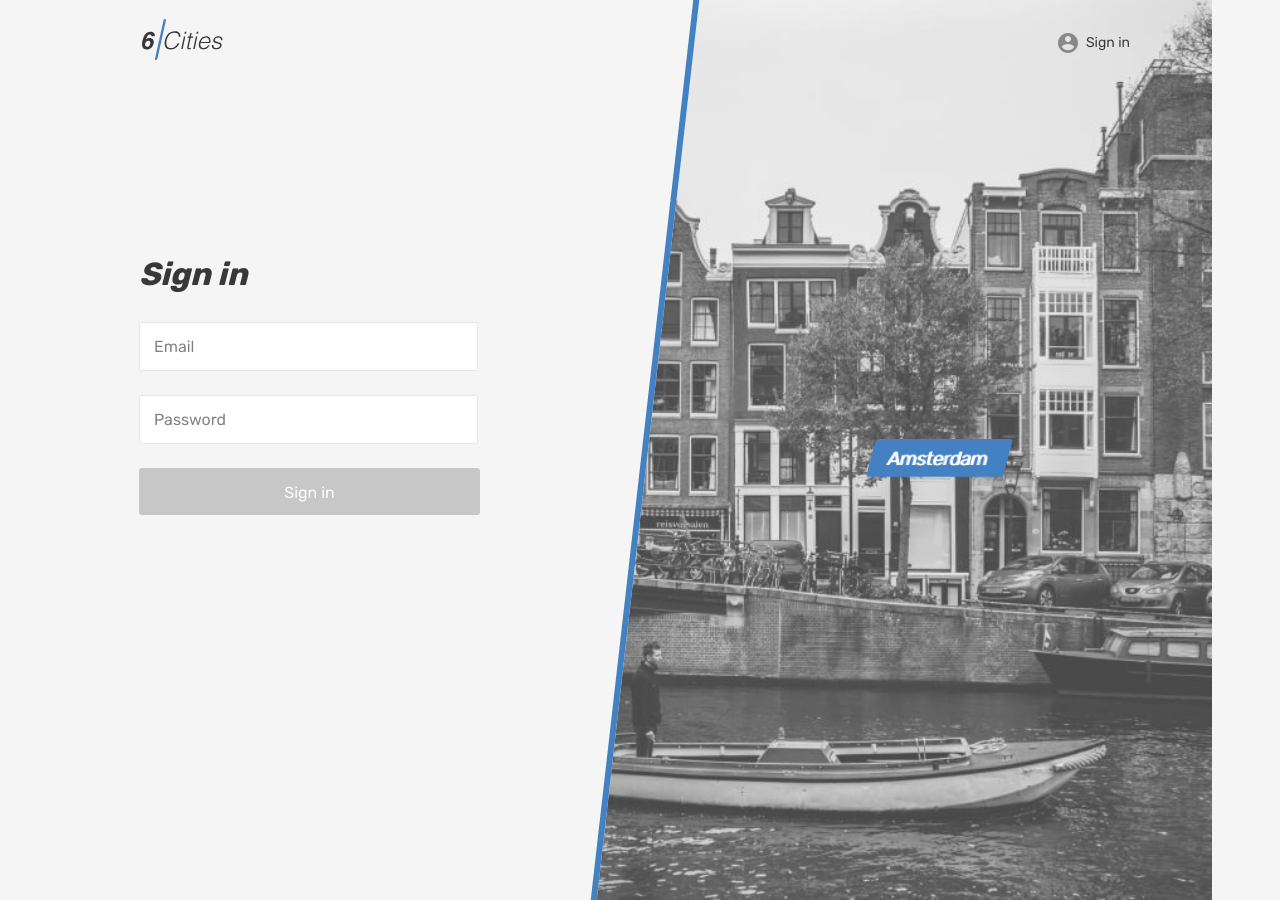
Test: LoginPage › should have submit button enabled when password has letters and digits
Type "password123" into the password field with placeholder "Password" at (308, 419), box [139,395,478,444]
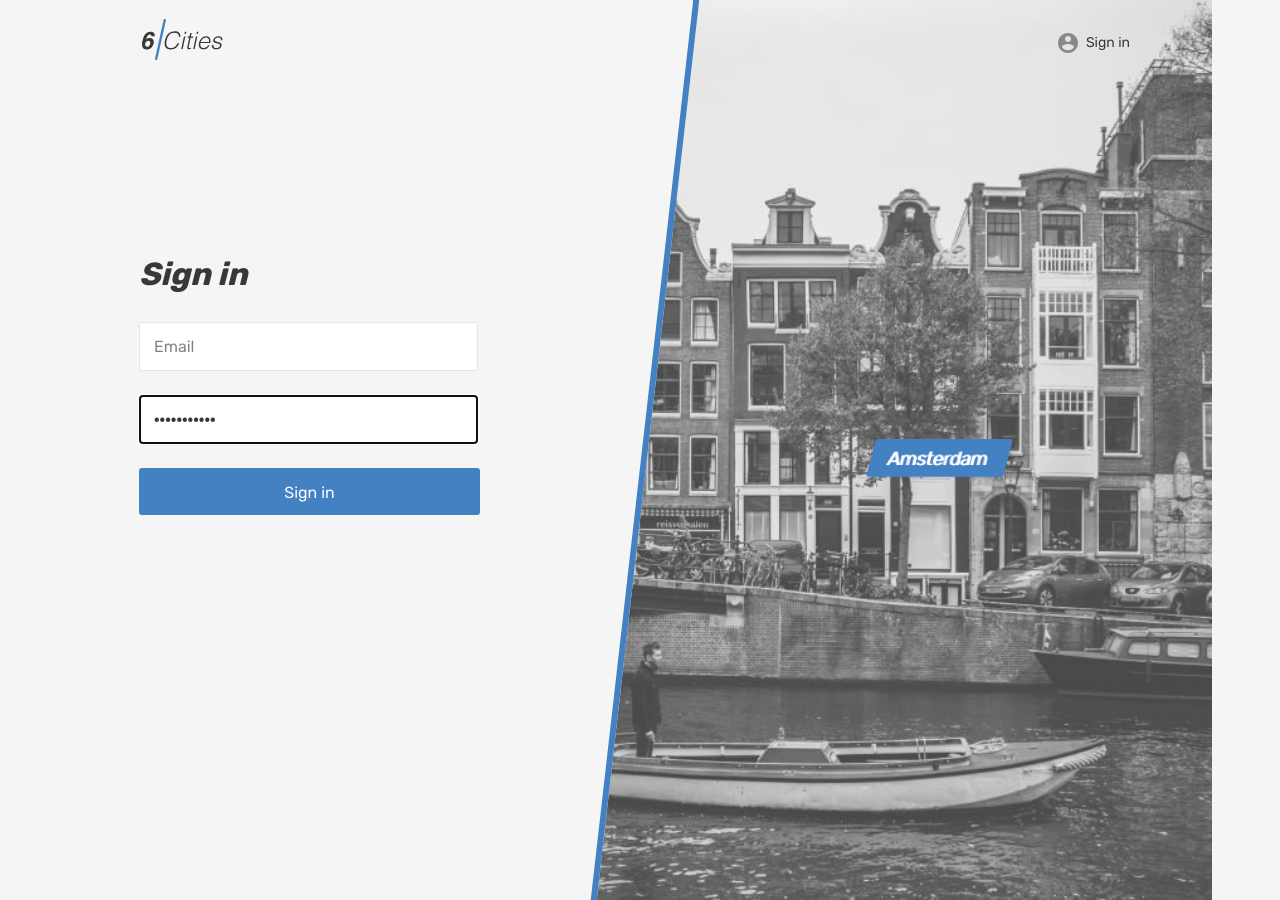
Check: the button "Sign in" is enabled, box [139,468,480,515]
